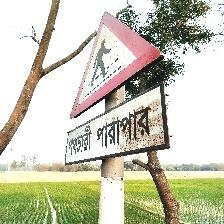Pedestrian-crossing: (66, 11, 169, 165)
